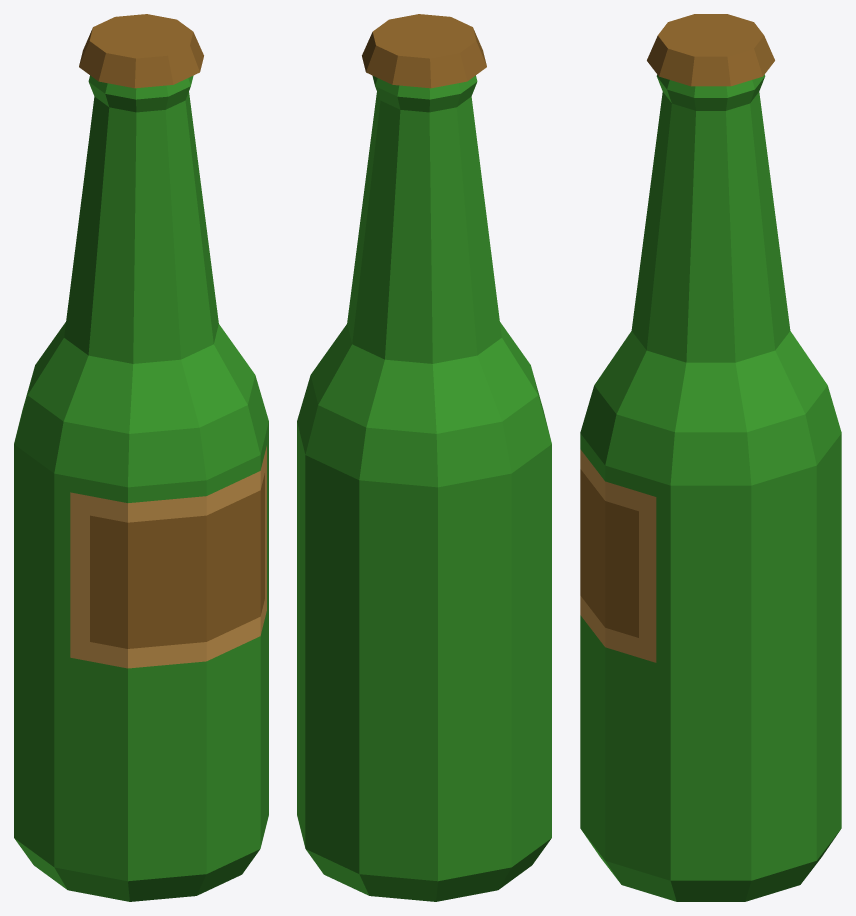
Rendered from BeerBottle.fbx.
3 renders of one model, left to right at view 1: azimuth 30°, elevation 25°; view 2: azimuth 150°, elevation 25°; view 3: azimuth 270°, elevation 25°, orthographic.
Parts seen in each view (by area): view 1: Beer Bottle; view 2: Beer Bottle; view 3: Beer Bottle.
Boxes of the visible parts, bbox=[...] form: Beer Bottle: bbox=[14, 14, 268, 901]; Beer Bottle: bbox=[297, 14, 551, 901]; Beer Bottle: bbox=[580, 14, 841, 901].
Bounding box in the file's own units: 6.03 × 22 × 6.34.
